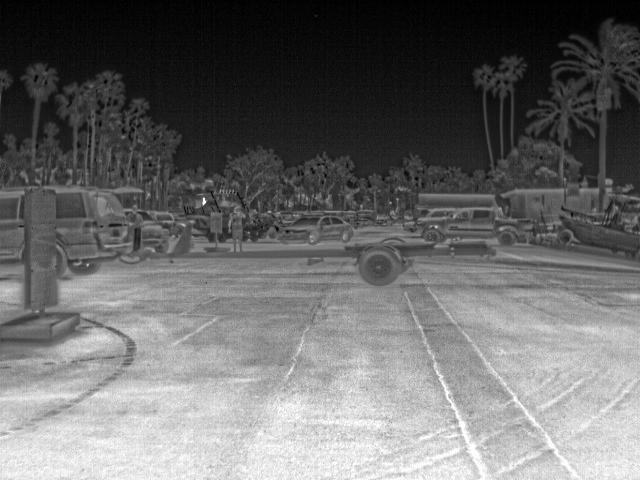car: (58, 186, 140, 276), (421, 205, 529, 243), (279, 211, 355, 245), (2, 186, 24, 267), (412, 209, 460, 224)
person: (226, 204, 248, 253)
